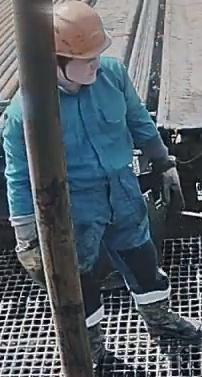gloves: (9, 214, 46, 289), (153, 151, 185, 220)
helmet: (51, 0, 111, 59)
vest: (0, 56, 150, 224)
